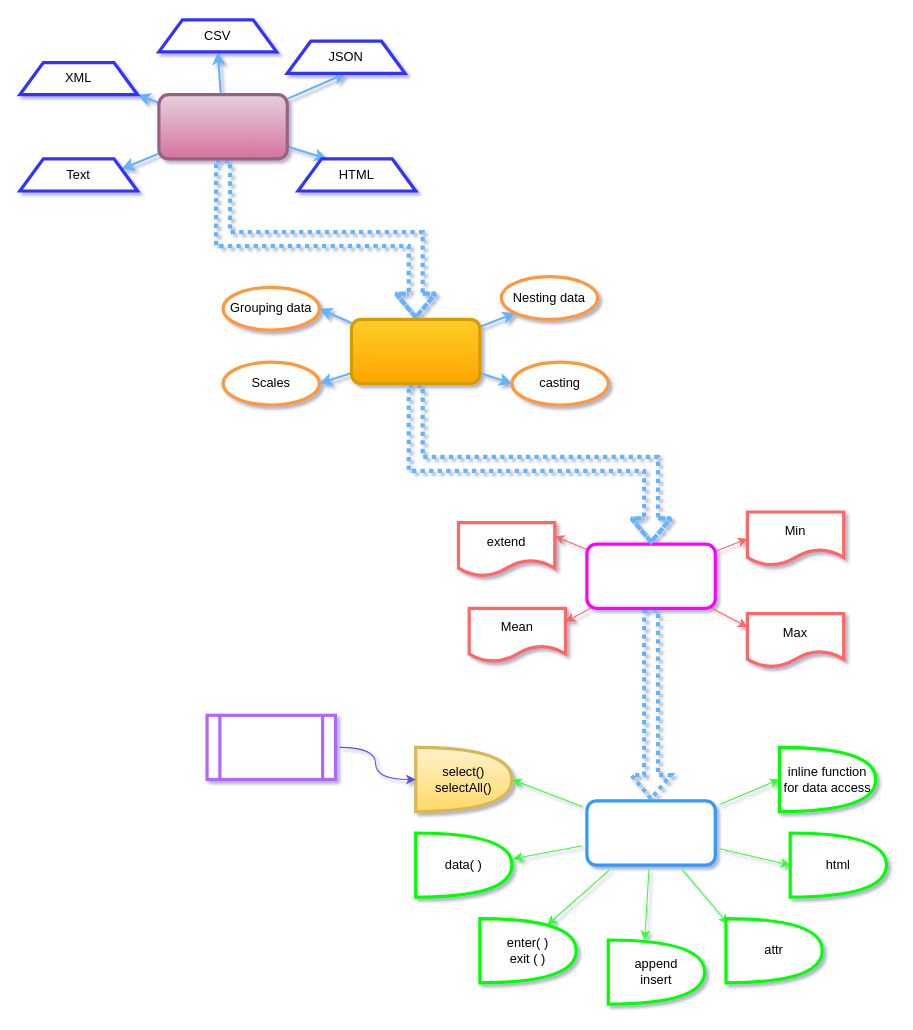
The diagram is 913 pixels wide and 1030 high, and some of its shapes have lost their labels. The shapes that lost their labels are listed below. From the top down, each one's box as (x1, y1, x2, y2) in pixels, then its label:
(157, 93, 288, 160): Data Loading
(349, 317, 481, 385): Format or processing Data
(585, 542, 716, 609): Measuring
(205, 713, 337, 781): declarative approach
(585, 799, 716, 866): Create (graphical shape - data binding)
